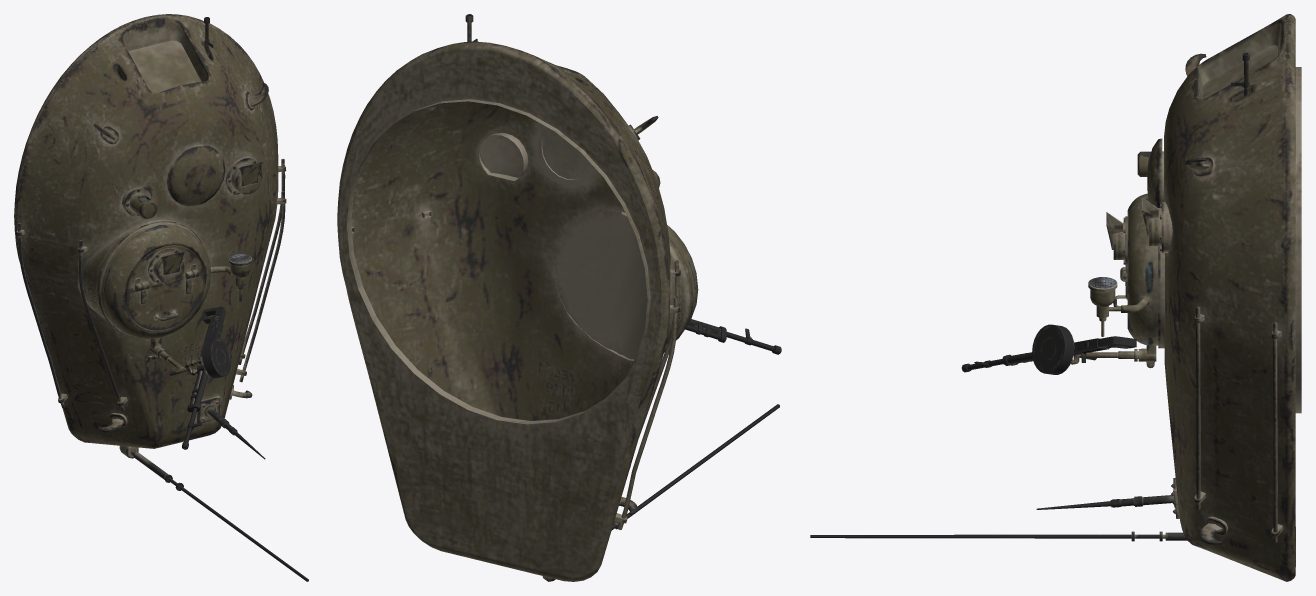
Rendered from Turret_02.glb.
3 renders of one model, left to right at view 1: azimuth 30°, elevation 25°; view 2: azimuth 150°, elevation 25°; view 3: azimuth 270°, elevation 25°, orthographic. The views are drawn at different scales.
Visible parts, largest first — view 1: set_0_group_0; view 2: set_0_group_0; view 3: set_0_group_0.
Boxes of the visible parts, x1,y1,x2,y2 form: set_0_group_0: (14, 14, 308, 581); set_0_group_0: (337, 14, 781, 581); set_0_group_0: (810, 14, 1301, 581).
Size of the model in its own units: 1.81 by 2.73 by 2.28.
Materials: 1 (1 with a texture image).
